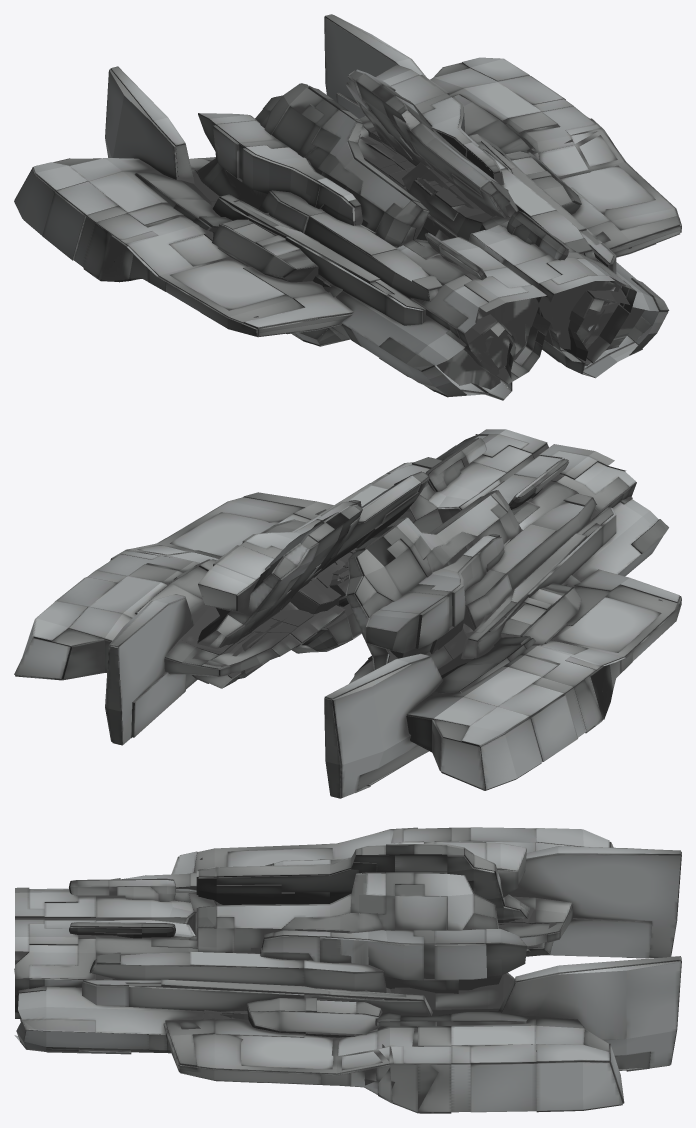
The model's file is Destroyer_002.fbx.
3 renders of one model, top to bottom at view 1: azimuth 30°, elevation 25°; view 2: azimuth 150°, elevation 25°; view 3: azimuth 270°, elevation 25°, orthographic.
Parts seen in each view (by area): view 1: Destroyer_002; view 2: Destroyer_002; view 3: Destroyer_002.
Boxes of the visible parts, x1,y1,x2,y2 form: Destroyer_002: (14,14,681,400); Destroyer_002: (14,429,681,798); Destroyer_002: (14,827,681,1113).
Size of the model in its own units: 41.56 by 12.48 by 47.01.
